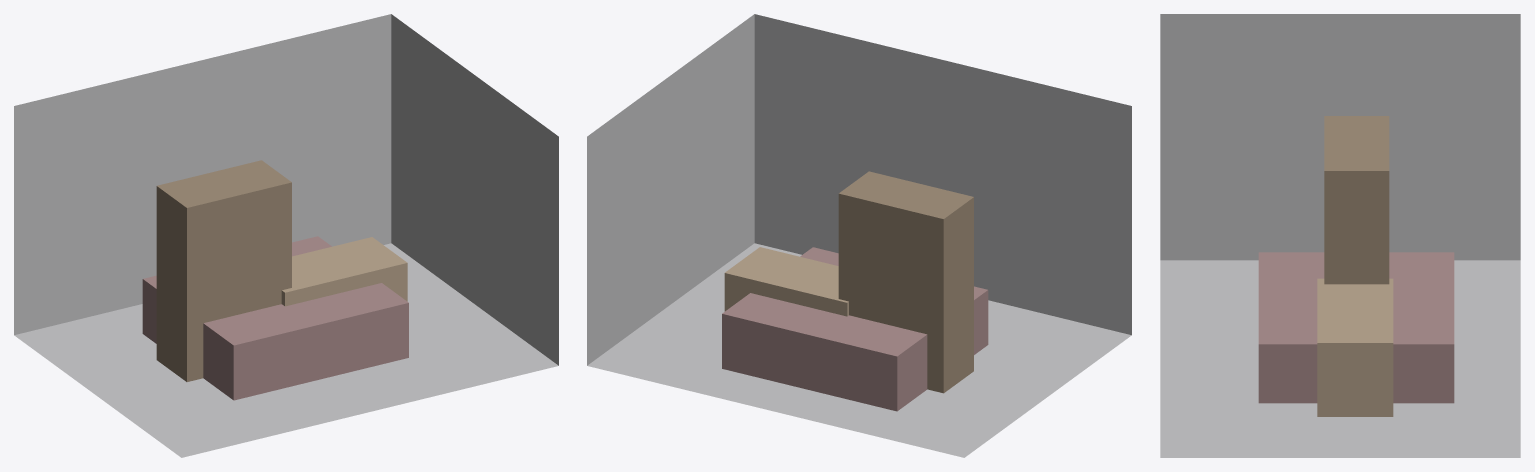
File: optimised_layout.glb
3 views of the same model, side by side, from view 1: azimuth 30°, elevation 25°; view 2: azimuth 150°, elevation 25°; view 3: azimuth 270°, elevation 25° (orthographic). The views are drawn at different scales.
Visible parts, largest first — view 1: room, wardrobe, bed, desk; view 2: room, wardrobe, bed, desk; view 3: room, bed, wardrobe, desk.
Boxes of the visible parts, x1=… form: room: x1=14, y1=14, x2=558, y2=457; wardrobe: x1=156, y1=160, x2=291, y2=381; bed: x1=142, y1=236, x2=408, y2=400; desk: x1=281, y1=237, x2=407, y2=306; room: x1=587, y1=14, x2=1131, y2=457; wardrobe: x1=838, y1=171, x2=973, y2=393; bed: x1=722, y1=247, x2=988, y2=411; desk: x1=724, y1=247, x2=848, y2=316; room: x1=1160, y1=14, x2=1520, y2=457; bed: x1=1258, y1=252, x2=1454, y2=403; wardrobe: x1=1324, y1=116, x2=1389, y2=284; desk: x1=1317, y1=278, x2=1393, y2=416.
Size of the model in its own units: 4.31 by 2.5 by 3.31.
